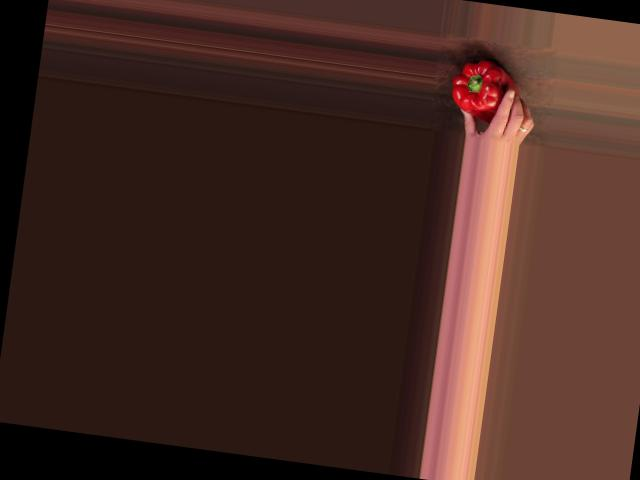bell_pepper: (446, 55, 516, 122)
